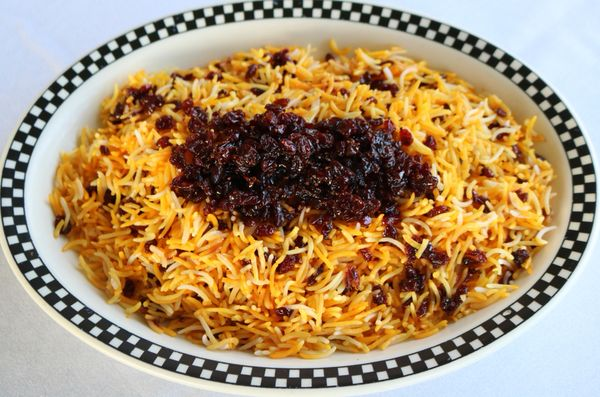sushi: (17, 21, 584, 386)
